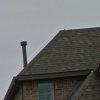Chimney: (16, 34, 32, 70)
